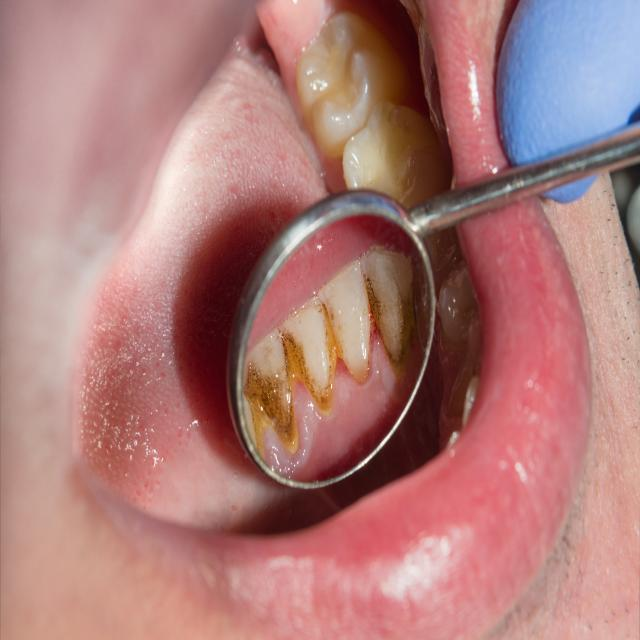calculus: (238, 362, 304, 452), (361, 277, 423, 368), (319, 306, 353, 412)
